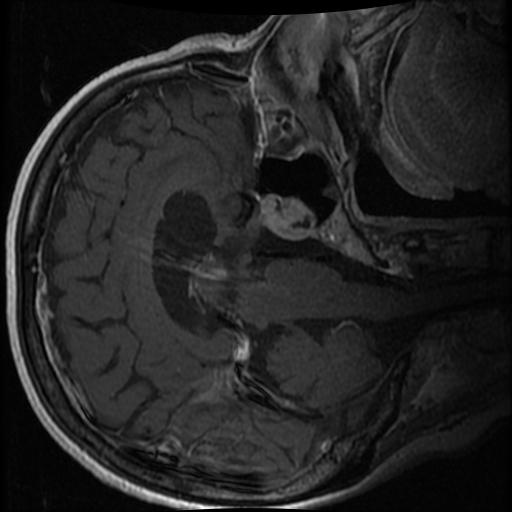pituitary tumour: (257, 193, 318, 239)
